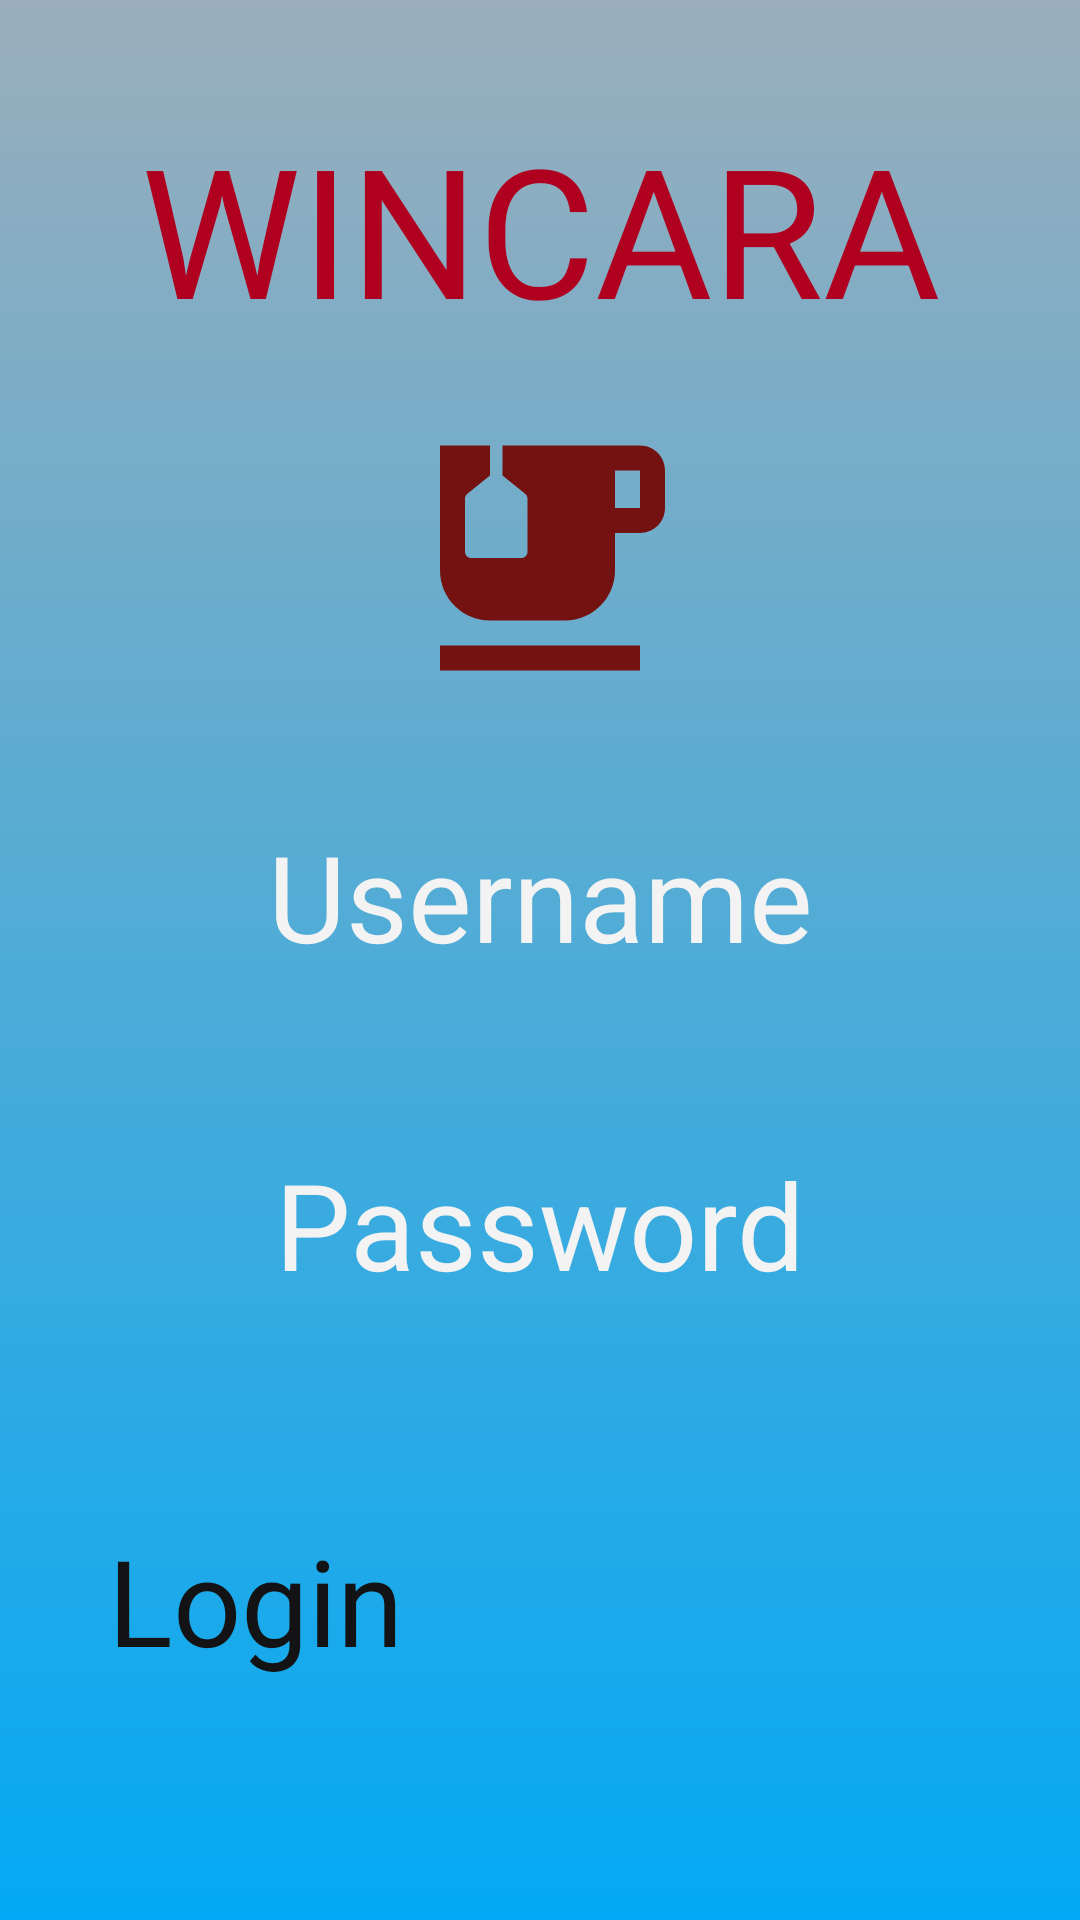

Named icons in this screenshot (1080 × 1920) and their bounding boxes, (x1, y1, x2, y2):
emoji food beverage: (440, 445, 665, 671)
